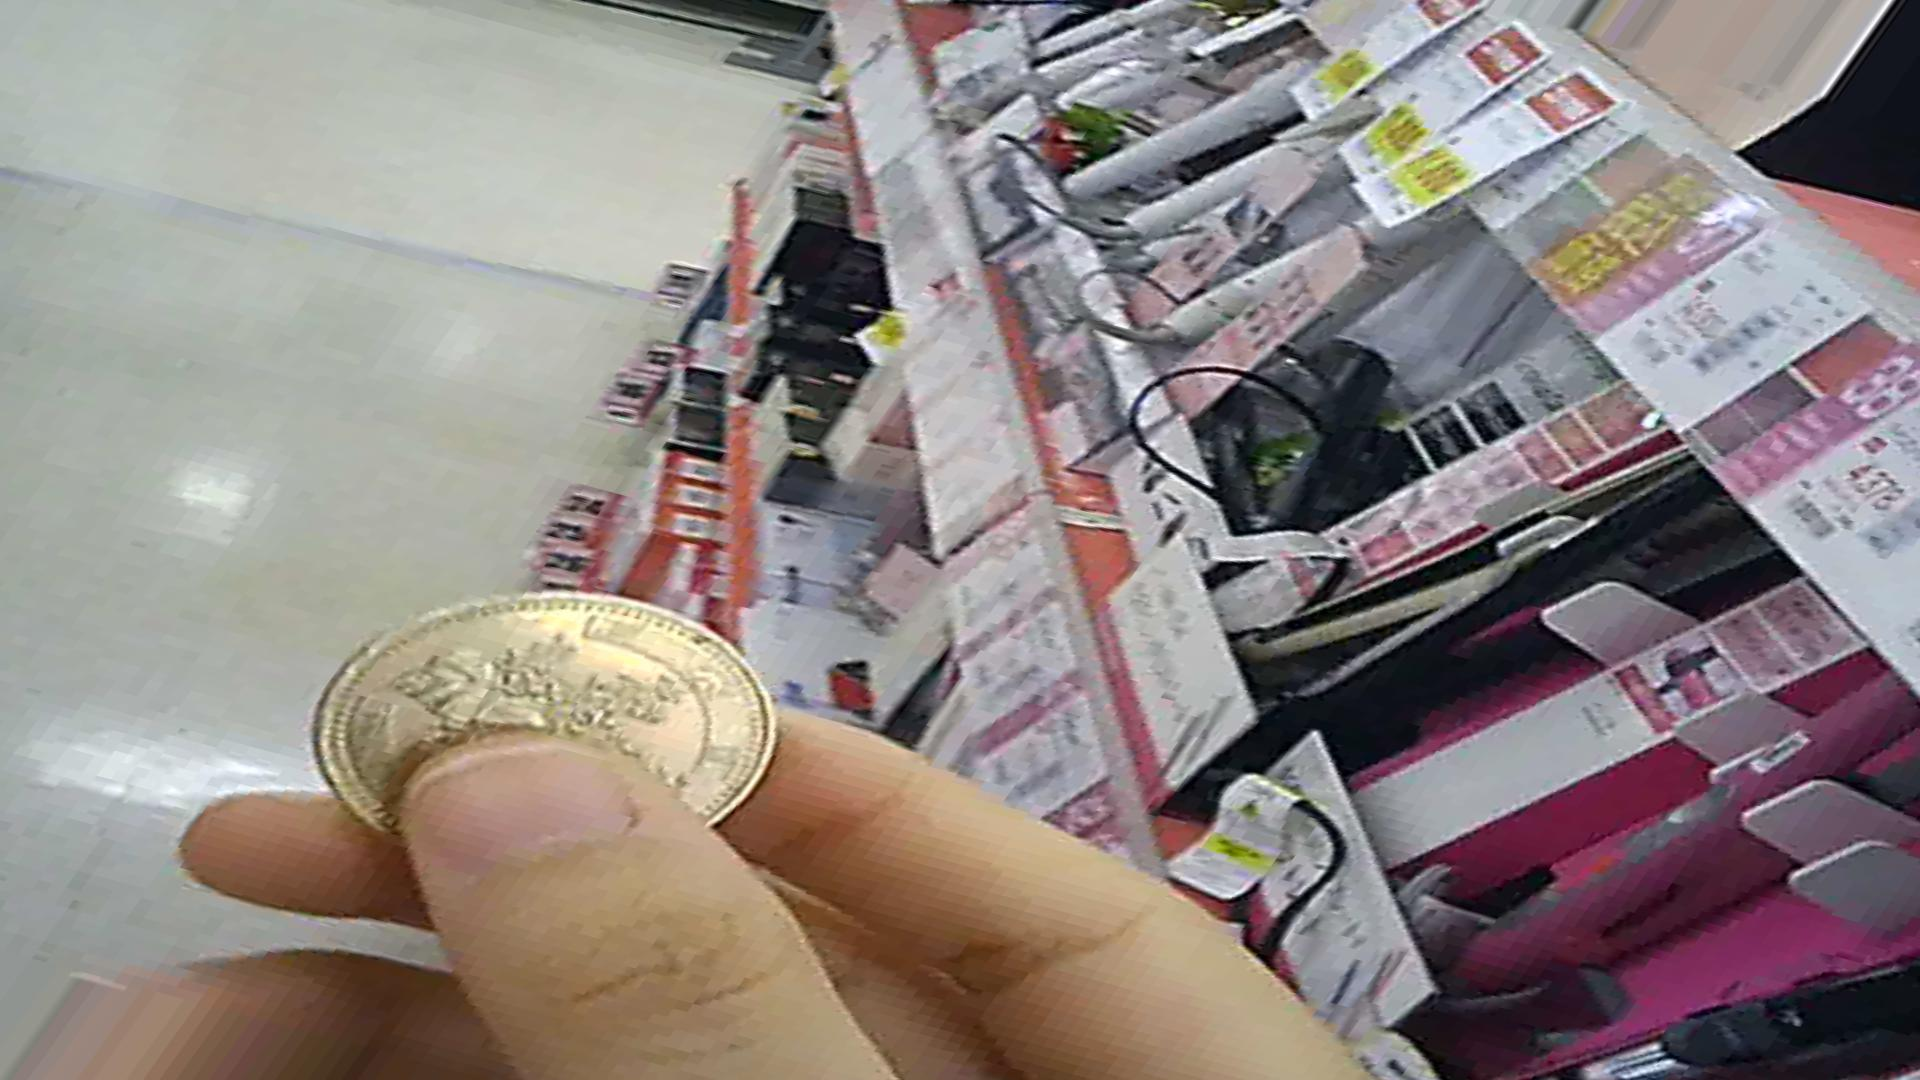500 Yen: (302, 593, 781, 901)
